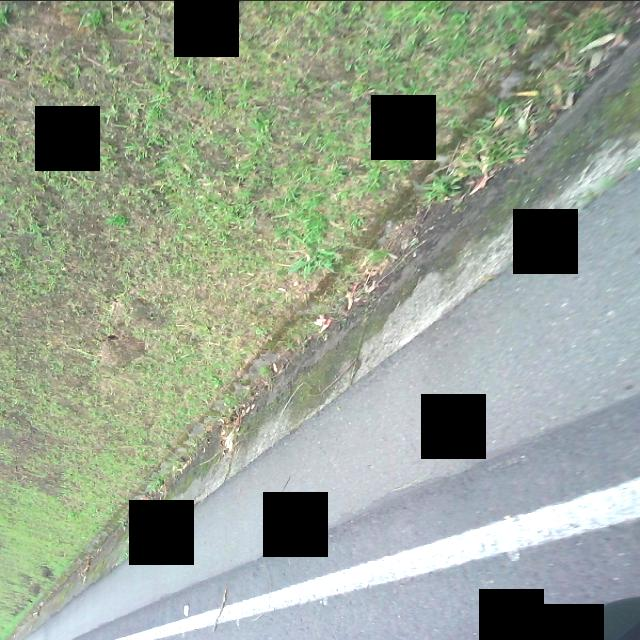DITCH: (7, 10, 638, 638)
